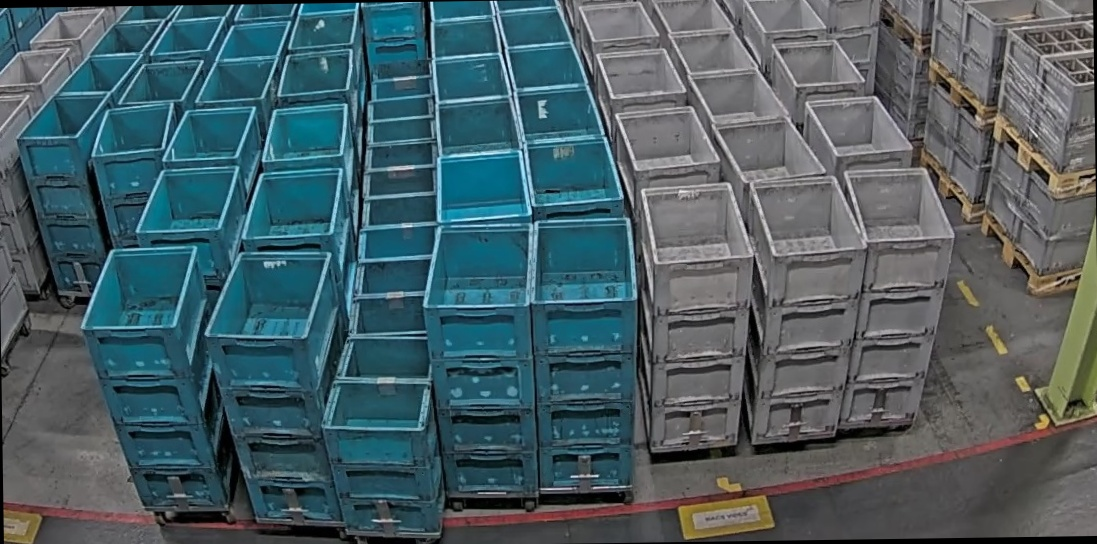4G: (739, 174, 872, 441), (834, 166, 960, 429), (636, 181, 758, 450)
B4: (76, 244, 237, 509), (201, 249, 348, 525), (419, 222, 538, 496), (529, 216, 642, 491), (88, 101, 181, 251)
B8: (319, 333, 446, 537)
